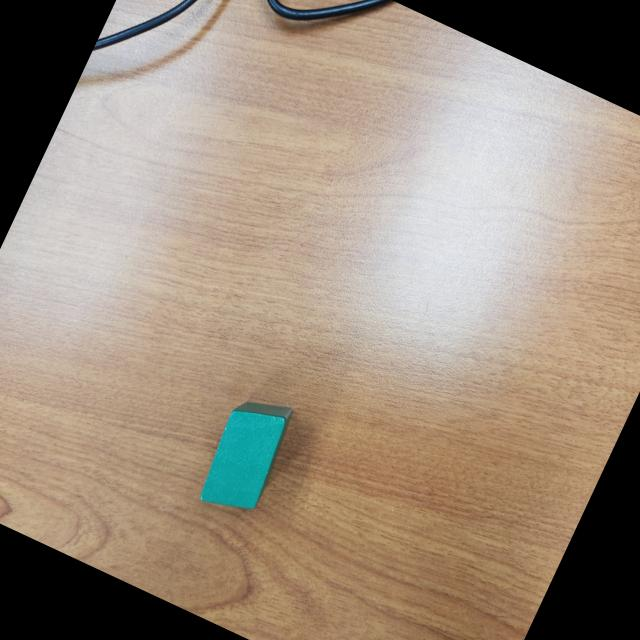green: (192, 385, 302, 524)
